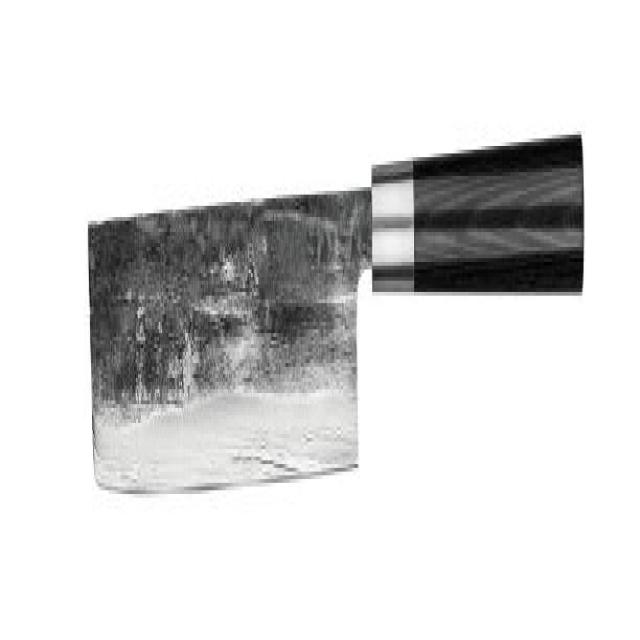knife: (79, 111, 592, 537)
